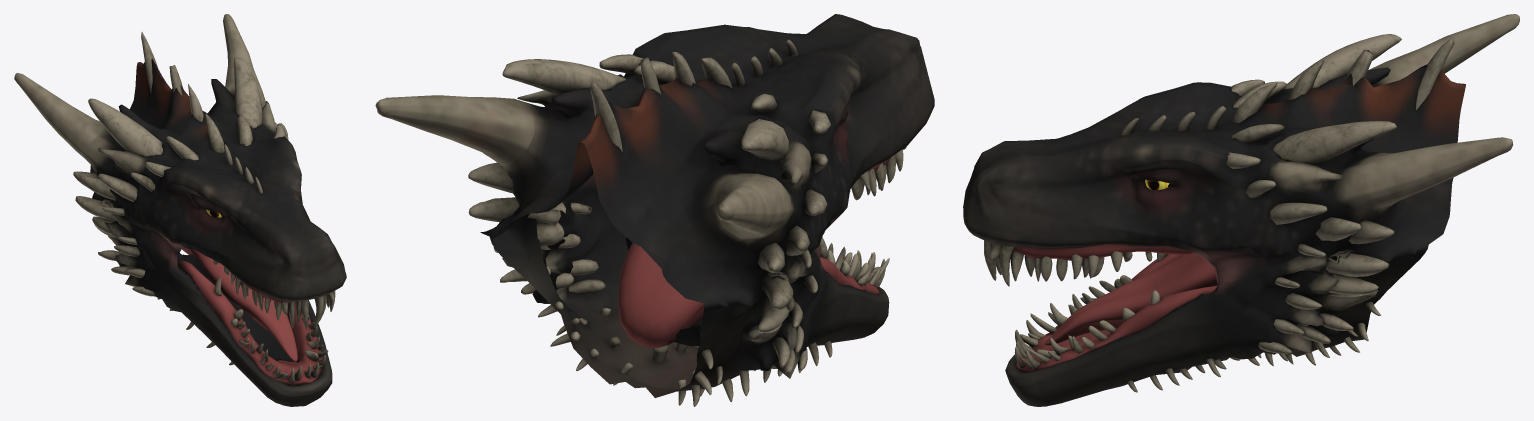
File: dragon_000012.obj
The picture shows the model from 3 angles, left to right: view 1: azimuth 30°, elevation 25°; view 2: azimuth 150°, elevation 25°; view 3: azimuth 270°, elevation 25°; orthographic projection. The views are drawn at different scales.
Visible parts, largest first — view 1: Dragon_Untitled; view 2: Dragon_Untitled; view 3: Dragon_Untitled.
Part boxes in pixels (x1,y1,x2,y2): Dragon_Untitled: (14,14,346,406); Dragon_Untitled: (375,14,934,406); Dragon_Untitled: (963,14,1519,406).
Bounding box in the file's own units: 2.72 × 3.2 × 4.45.
